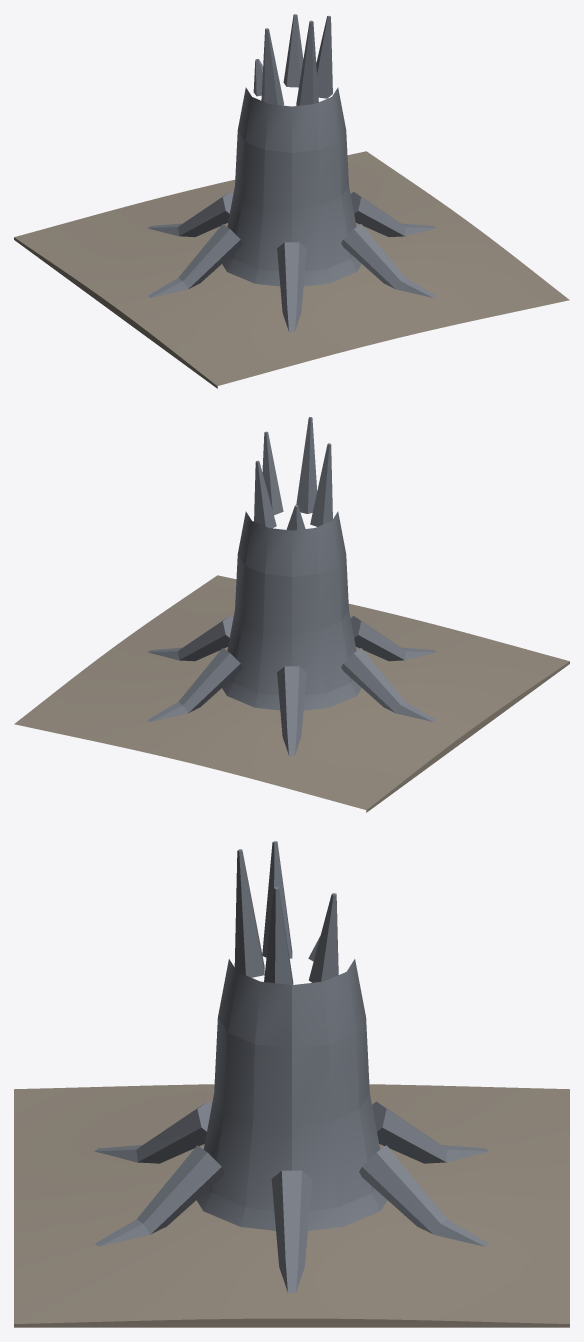
File: ufo-crash-site-and-recovery-facility-charred-stump-93d0c184__17338.glb
3 renders of one model, top to bottom at view 1: azimuth 30°, elevation 25°; view 2: azimuth 150°, elevation 25°; view 3: azimuth 270°, elevation 25°, orthographic. The views are drawn at different scales.
Parts seen in each view (by area): view 1: charred-stump; view 2: charred-stump; view 3: charred-stump.
Boxes of the visible parts, box(x1,y1,x2,y2) form: charred-stump: box(14, 14, 569, 388); charred-stump: box(14, 417, 569, 812); charred-stump: box(14, 841, 569, 1327).
Bounding box in the file's own units: 3 × 2.15 × 3.
